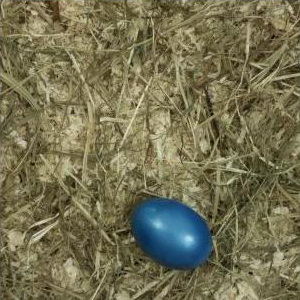egg: (131, 198, 212, 270)
